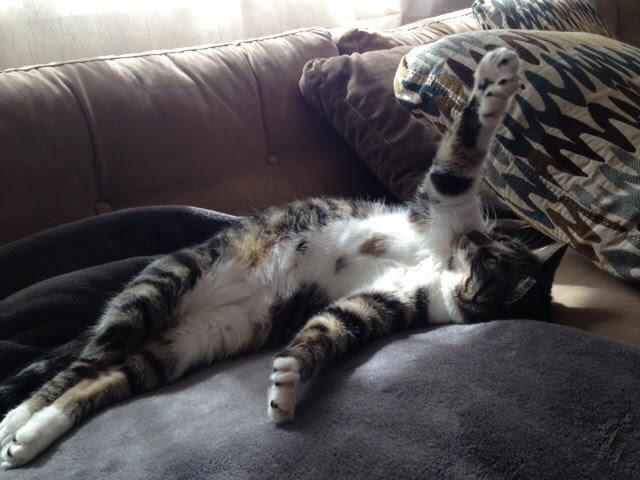playdoh: (1, 48, 572, 480)
